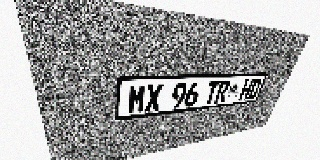6: (183, 82, 201, 107)
9: (170, 82, 188, 109)
D: (246, 79, 262, 99)
H: (238, 79, 254, 100)
M: (128, 84, 146, 114)
R: (214, 80, 231, 103)
T: (203, 81, 220, 105)
X: (144, 83, 163, 112)
